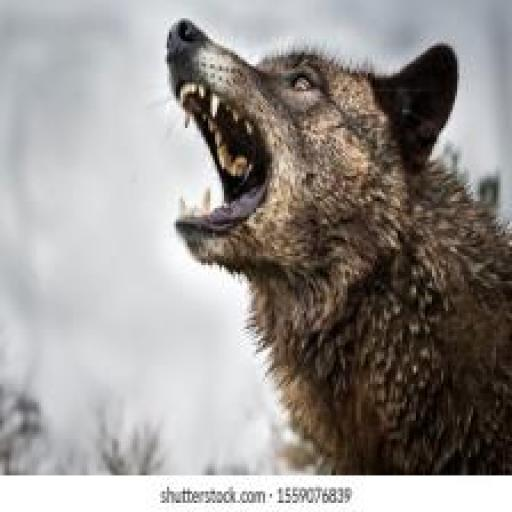wolf: (148, 0, 511, 512)
